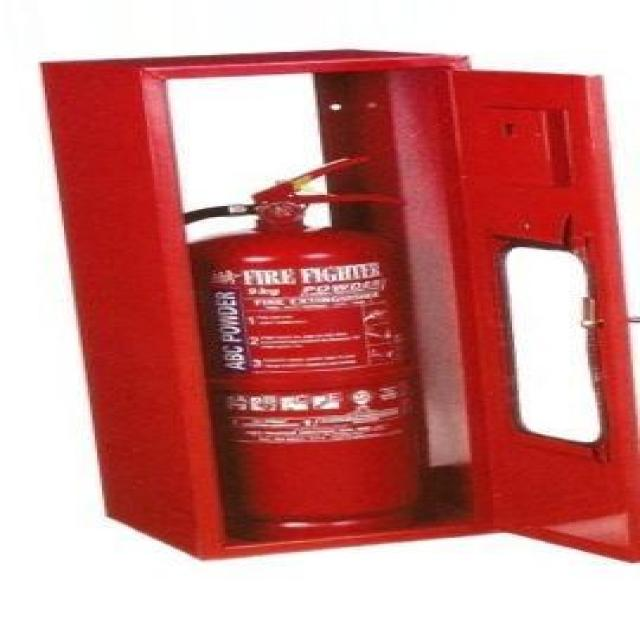fire_extinguisher: (129, 148, 428, 547)
